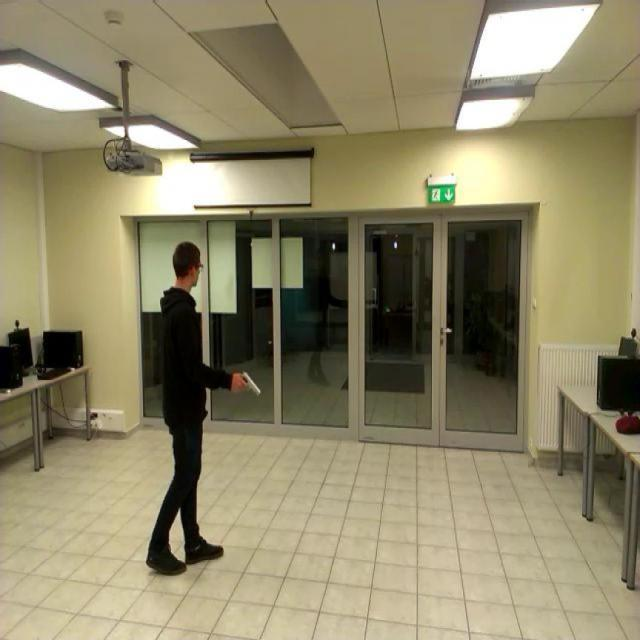pistol: (238, 370, 260, 394)
